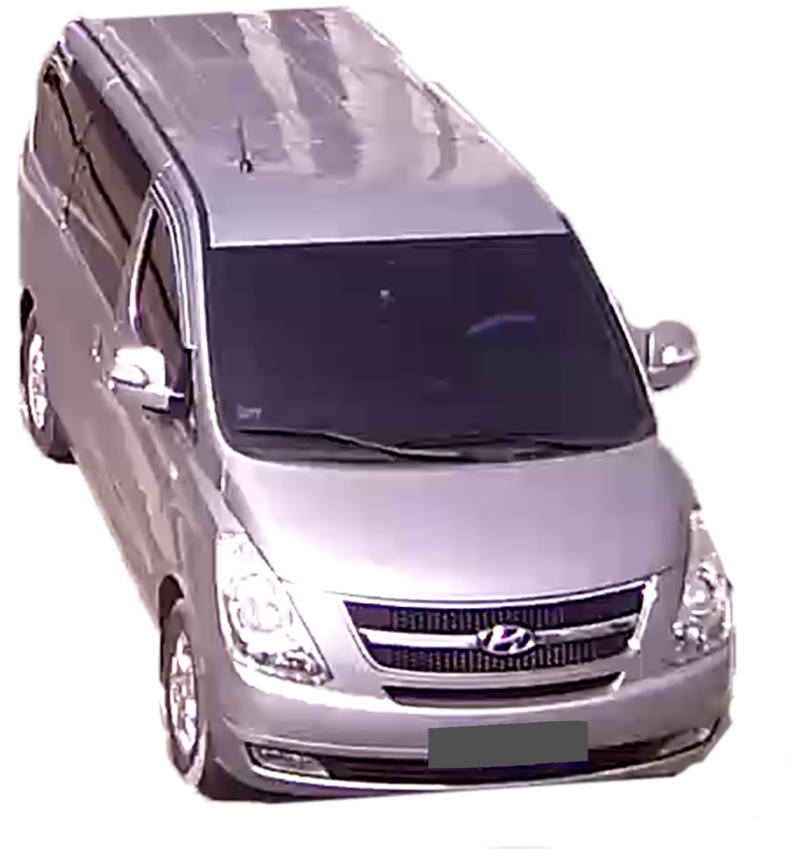P1_: (429, 729, 446, 738)
bbox: (428, 719, 588, 769)
